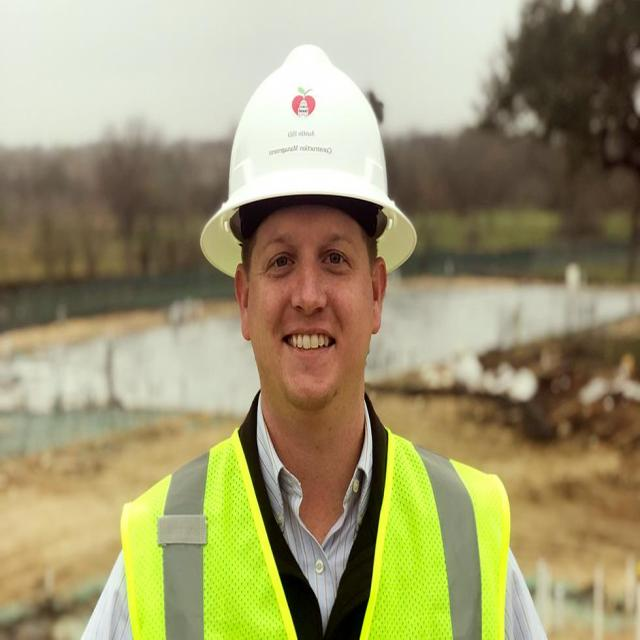Reflective-Jacket: (119, 428, 518, 640)
Safety-Helmet: (198, 44, 420, 280)
